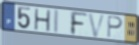5: (16, 6, 32, 31)
F: (69, 10, 89, 37)
H: (33, 8, 51, 33)
I: (53, 8, 60, 35)
P: (107, 15, 124, 39)
V: (87, 12, 107, 38)
